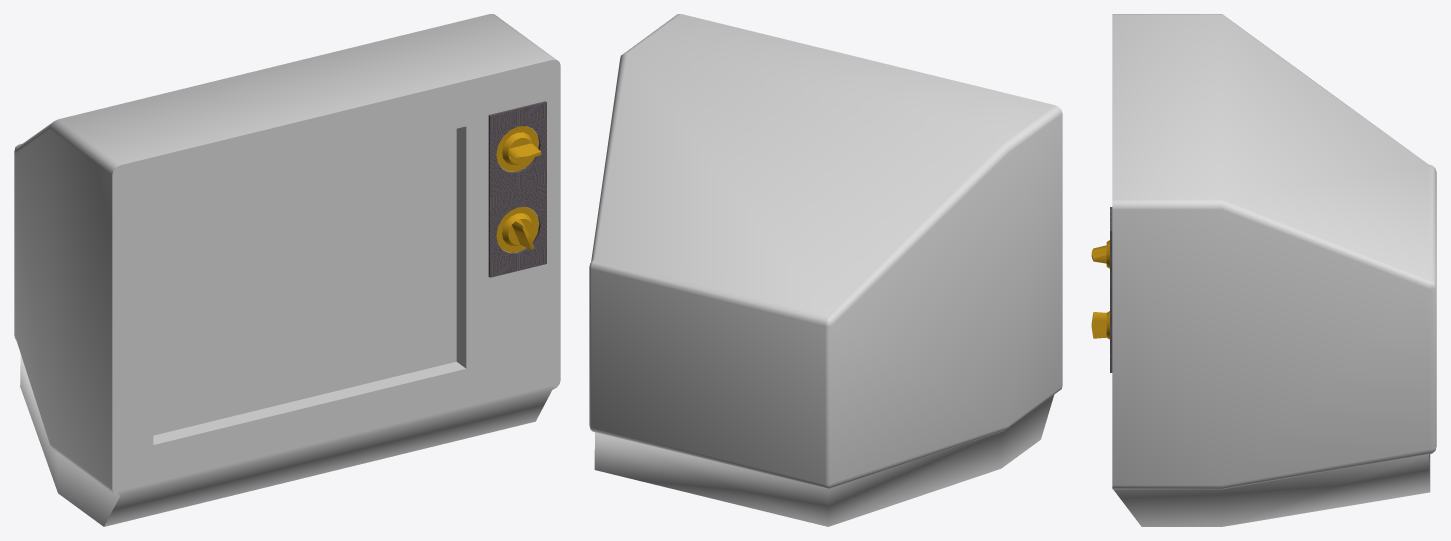
3 views of the same model, side by side, from view 1: azimuth 30°, elevation 25°; view 2: azimuth 150°, elevation 25°; view 3: azimuth 270°, elevation 25° (orthographic). The views are drawn at different scales.
Visible parts, largest first — view 1: Cube, Buttons_2, Cylinder_1, Cylinder; view 2: Cube; view 3: Cube, Buttons_2, Cylinder_1.
Part boxes in pixels (x1,y1,x2,y2): Cube: (14,14,560,526); Buttons_2: (488,101,546,277); Cylinder_1: (496,207,538,252); Cylinder: (496,126,541,171); Cube: (589,14,1062,526); Cube: (1112,14,1436,526); Buttons_2: (1110,207,1112,372); Cylinder_1: (1091,311,1109,339).
Bounding box in the file's own units: 60 × 47.82 × 45.65.
2 materials, 1 textured.
